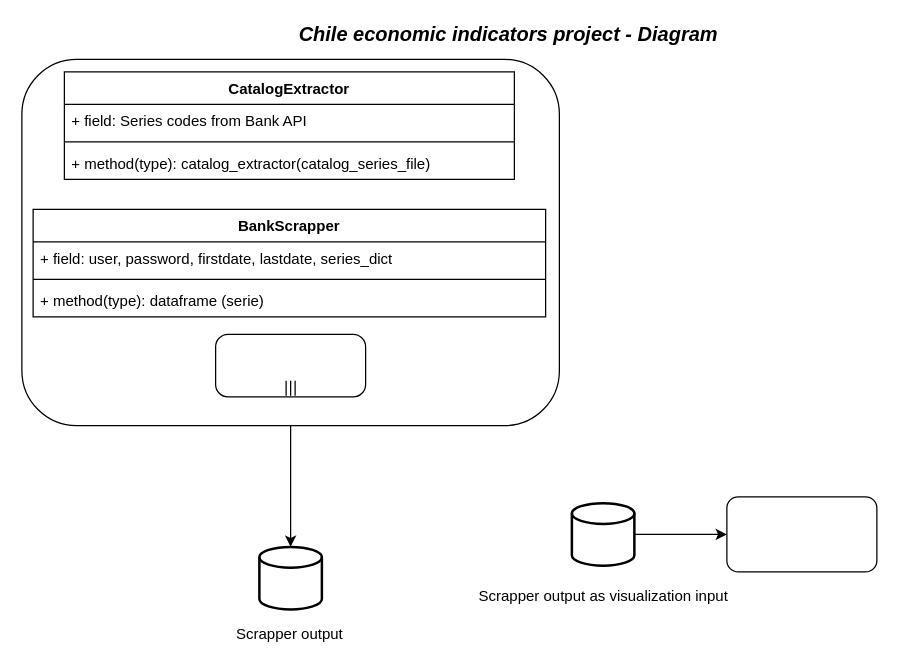
This 899x668 diagram has some shape labels left out. Each missing label, with the box of its shape:
Data Visualization: (726, 496, 877, 572)
Multi-Thread: (214, 333, 366, 397)
